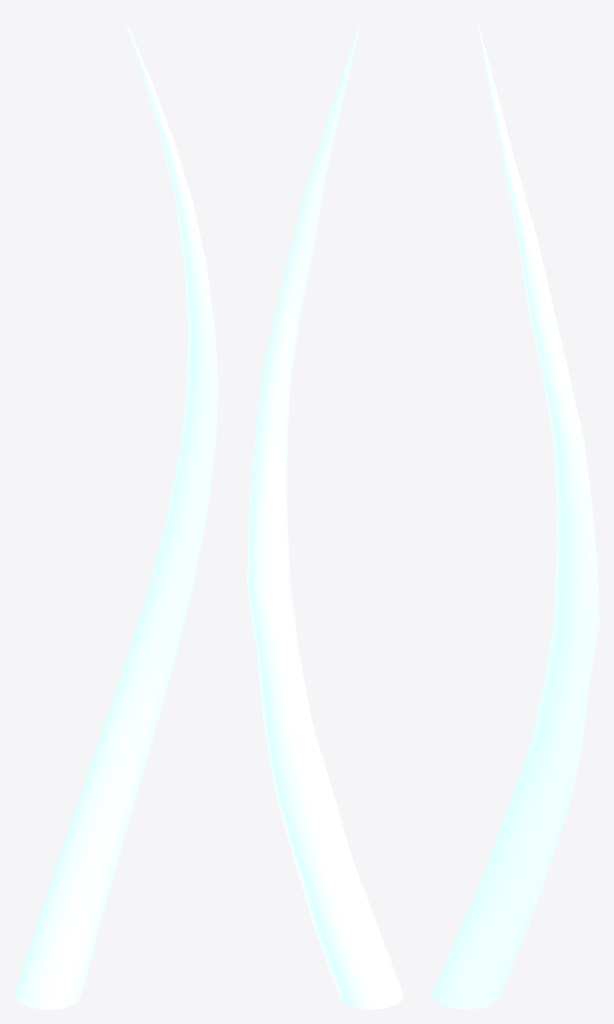
The model's file is BioluminescentFrond_01.fbx.
3 views of the same model, side by side, from view 1: azimuth 30°, elevation 25°; view 2: azimuth 150°, elevation 25°; view 3: azimuth 330°, elevation 25° (orthographic). The views are drawn at different scales.
Visible parts, largest first — view 1: BioluminescentFrond_01; view 2: BioluminescentFrond_01; view 3: BioluminescentFrond_01.
Part boxes in pixels (left/top/right/bottom): BioluminescentFrond_01: left=14, top=16, right=218, bottom=1009; BioluminescentFrond_01: left=247, top=15, right=403, bottom=1009; BioluminescentFrond_01: left=432, top=15, right=599, bottom=1009.
Bounding box in the file's own units: 47.17 × 260 × 29.51.
